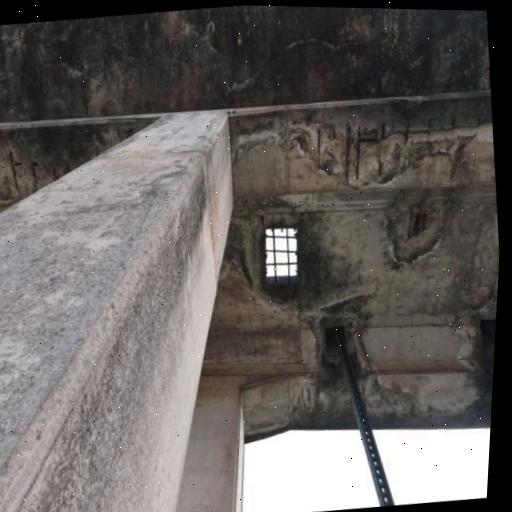exposed_rebar: (318, 132, 331, 175), (10, 151, 19, 191), (356, 126, 360, 179), (346, 127, 350, 178), (30, 158, 38, 181), (415, 210, 419, 235), (409, 210, 413, 235), (405, 121, 409, 141), (423, 211, 427, 231), (360, 138, 379, 142), (379, 152, 382, 176), (381, 124, 384, 142), (53, 169, 58, 179), (333, 130, 335, 141), (14, 163, 21, 166), (97, 151, 98, 156)
spalling: (232, 94, 492, 185), (386, 191, 450, 267)
